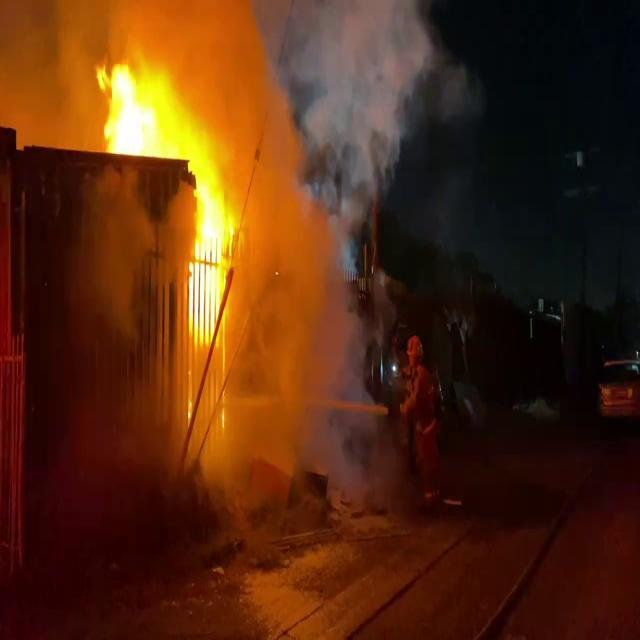Fire: (182, 150, 234, 343), (92, 51, 179, 162)
Smoke: (178, 0, 396, 498), (37, 187, 182, 558)
